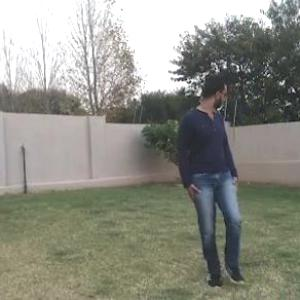follow: (186, 68, 238, 277)
